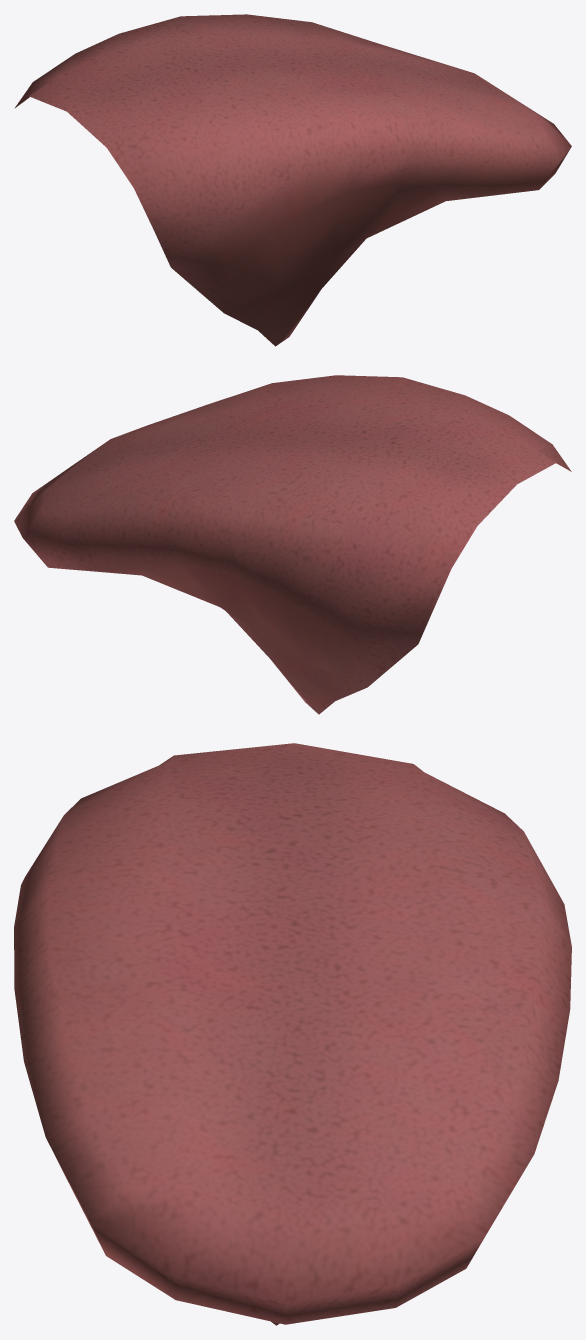
The model's file is mouth_tng.glb.
3 renders of one model, top to bottom at view 1: azimuth 30°, elevation 25°; view 2: azimuth 150°, elevation 25°; view 3: azimuth 270°, elevation 25°, orthographic. The views are drawn at different scales.
Parts seen in each view (by area): view 1: Plane.001; view 2: Plane.001; view 3: Plane.001.
Boxes of the visible parts, bbox=[...] form: Plane.001: bbox=[14, 14, 571, 346]; Plane.001: bbox=[14, 375, 571, 714]; Plane.001: bbox=[14, 743, 571, 1325].
Size of the model in its own units: 0.1118 by 0.0635 by 0.0726.
Materials: 1 (1 with a texture image).
